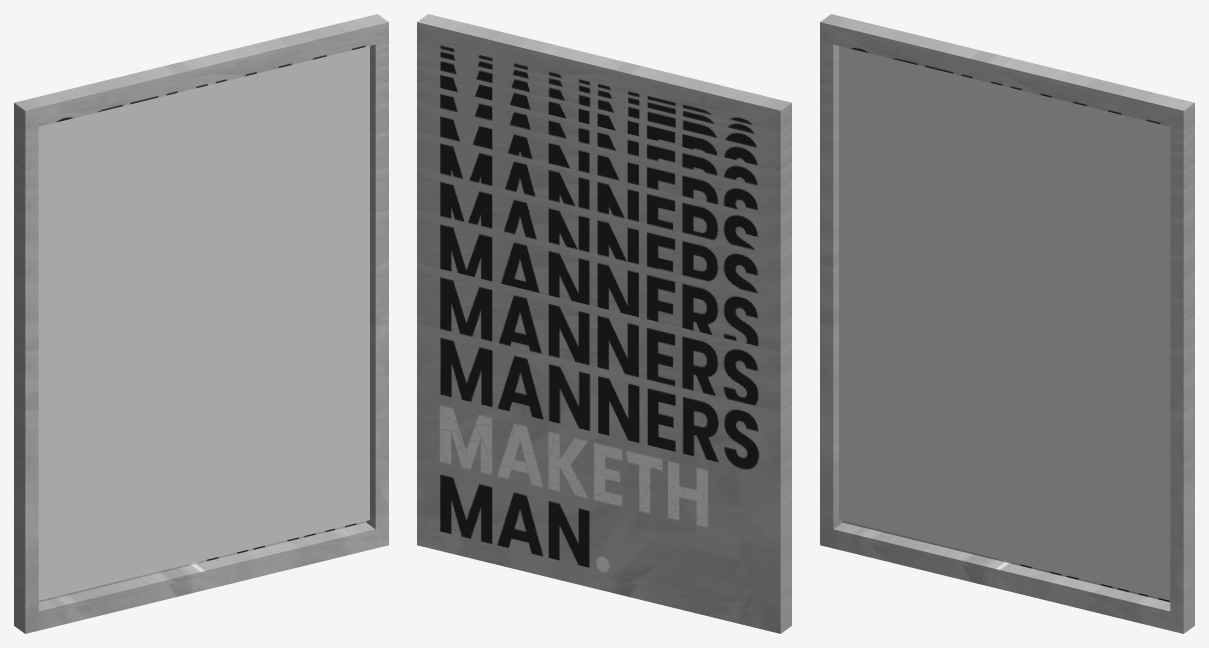
Rendered from Canvas2.glb.
3 views of the same model, side by side, from view 1: azimuth 30°, elevation 25°; view 2: azimuth 150°, elevation 25°; view 3: azimuth 330°, elevation 25° (orthographic).
Visible parts, largest first — view 1: Plane.001, Plane; view 2: Plane; view 3: Plane.001, Plane.
Boxes of the visible parts, x1,y1,x2,y2 form: Plane.001: (38,46,369,600); Plane: (14,14,388,633); Plane: (417,14,791,633); Plane.001: (839,46,1170,600); Plane: (820,14,1194,633).
Size of the model in its own units: 1.6 by 2.2 by 0.0847.
Materials: 1 (1 with a texture image).
